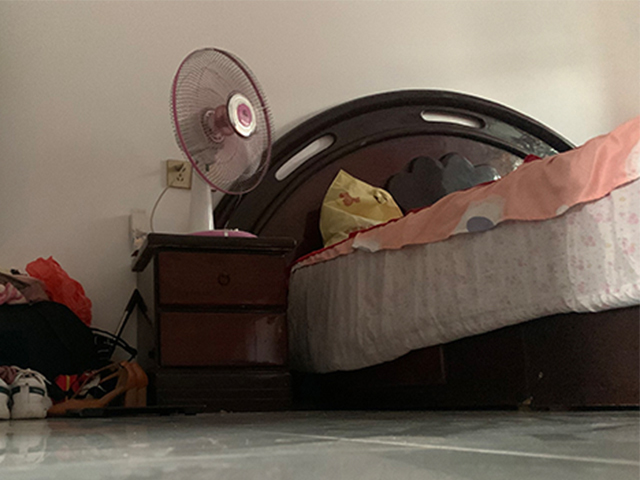bed: (213, 89, 640, 413)
cabinet: (131, 231, 296, 414)
wire: (148, 157, 187, 235)
